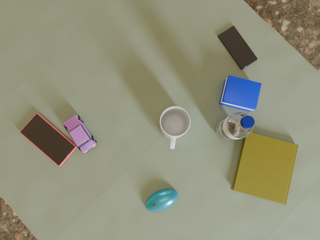book: (232, 132, 298, 205)
bottle: (216, 112, 254, 141)
box: (219, 76, 261, 112)
cup: (160, 106, 190, 149)
mouse: (146, 189, 178, 212)
phone: (20, 113, 77, 167), (218, 26, 257, 69)
toy_car: (64, 115, 97, 153)
